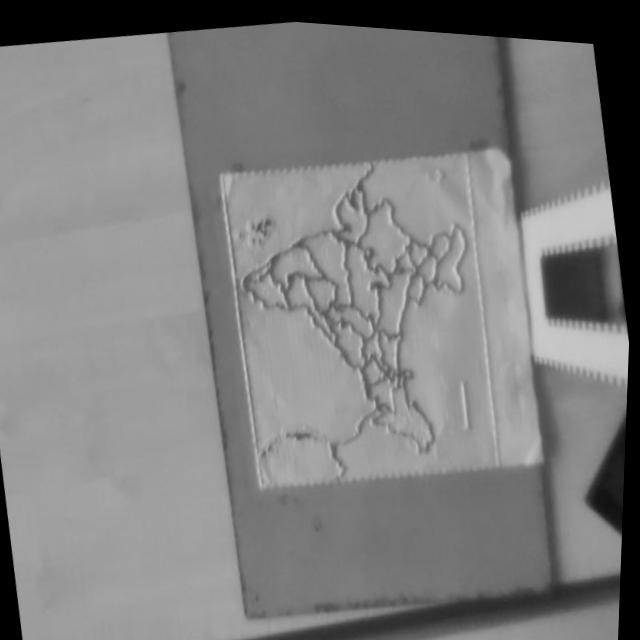map: (221, 149, 500, 491)
